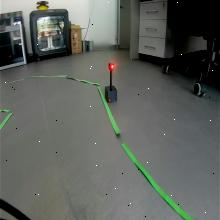red: (108, 62, 115, 71)
